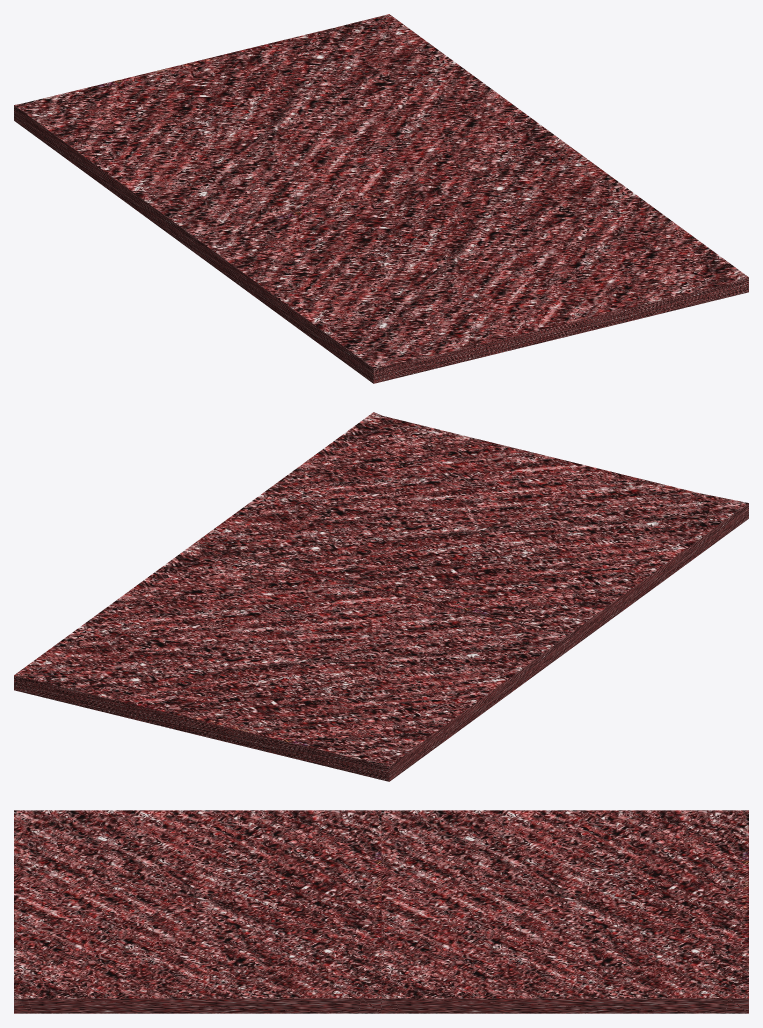
The model's file is 立方体（血地）.gltf.
3 renders of one model, top to bottom at view 1: azimuth 30°, elevation 25°; view 2: azimuth 150°, elevation 25°; view 3: azimuth 270°, elevation 25°, orthographic. The views are drawn at different scales.
Parts seen in each view (by area): view 1: 立方体 (×2); view 2: 立方体 (×2); view 3: 立方体 (×2).
Part boxes in pixels (box(x1,y1,x2,y2)): 立方体 (×2): box(14, 14, 748, 383); 立方体 (×2): box(14, 412, 748, 781); 立方体 (×2): box(14, 810, 748, 1013).
Size of the model in its own units: 20 by 0.7925 by 33.19.
2 materials, 2 textured.
